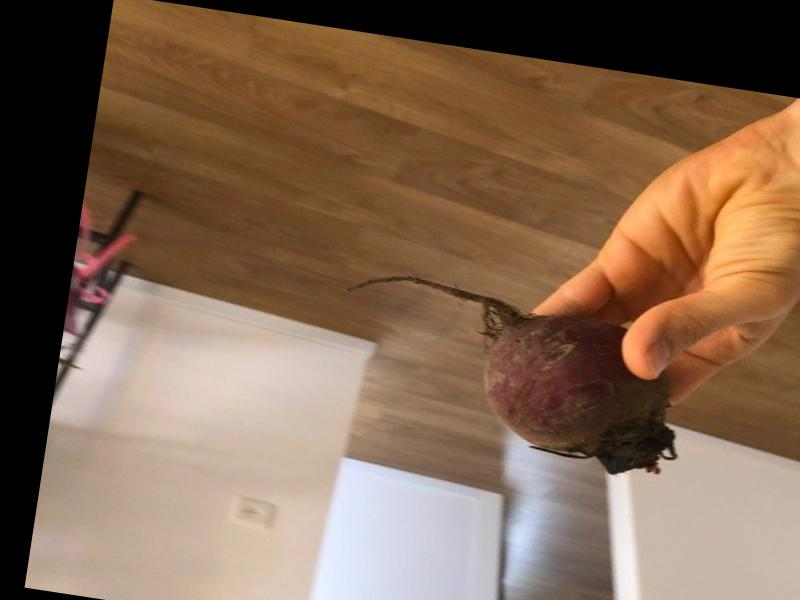Beet: (323, 268, 692, 480)
